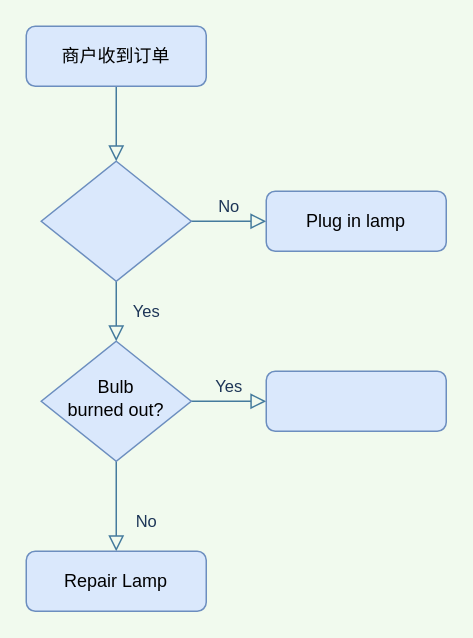
Image size: 473x638. Some labels were removed from this diagram. Each missing label, with the centre of its shape:
Lamp plugged in?: the point at 115,220
Replace Bulb: the point at 355,400
